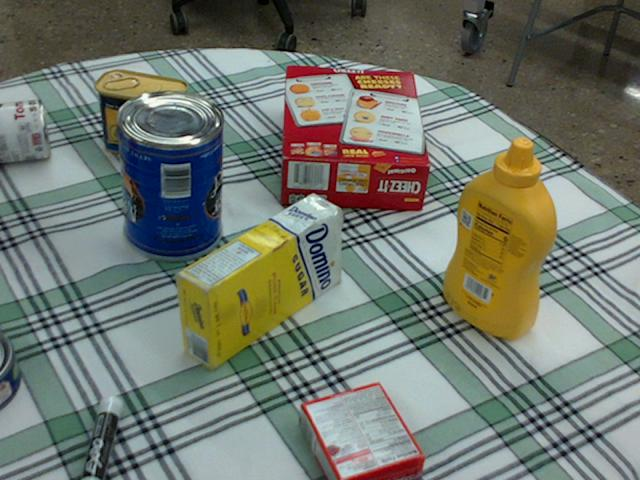cracker_box: (281, 65, 429, 209)
gelatin_box: (299, 382, 422, 479)
large_marker: (79, 395, 121, 479)
master_chef_can: (113, 90, 222, 261)
mustard_bottle: (443, 137, 556, 337)
potted_meat_can: (94, 70, 187, 160)
sugar_box: (175, 194, 341, 369)
tomato_soup_can: (0, 99, 49, 162)
tuna_fish_can: (0, 332, 17, 404)
